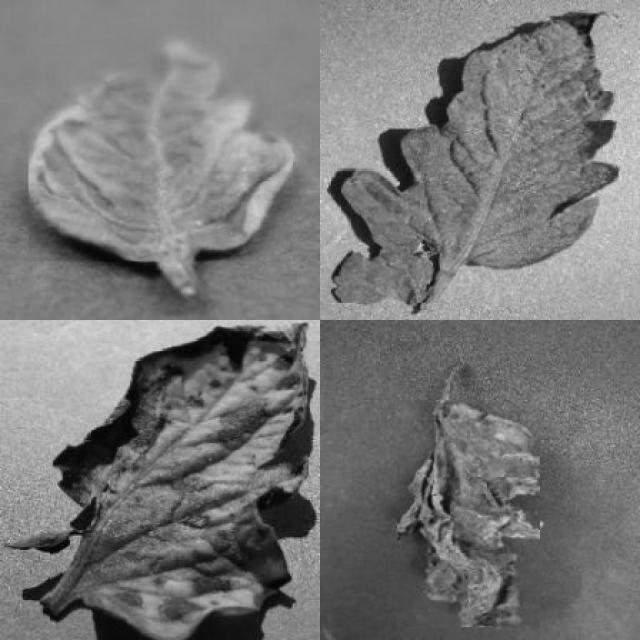Early Blight: (50, 321, 309, 640)
Late Blight: (398, 400, 541, 627)
Septoria: (325, 10, 619, 303)
Yellow Leaf Curl Virus: (28, 42, 293, 262)
